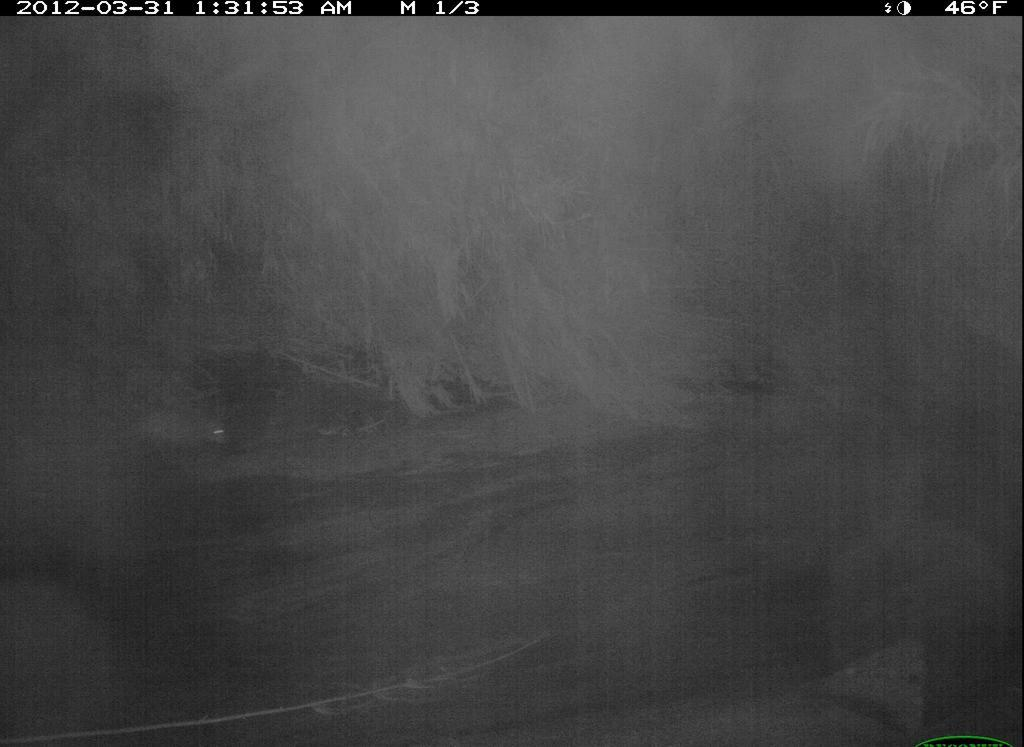opossum: (99, 387, 241, 466)
